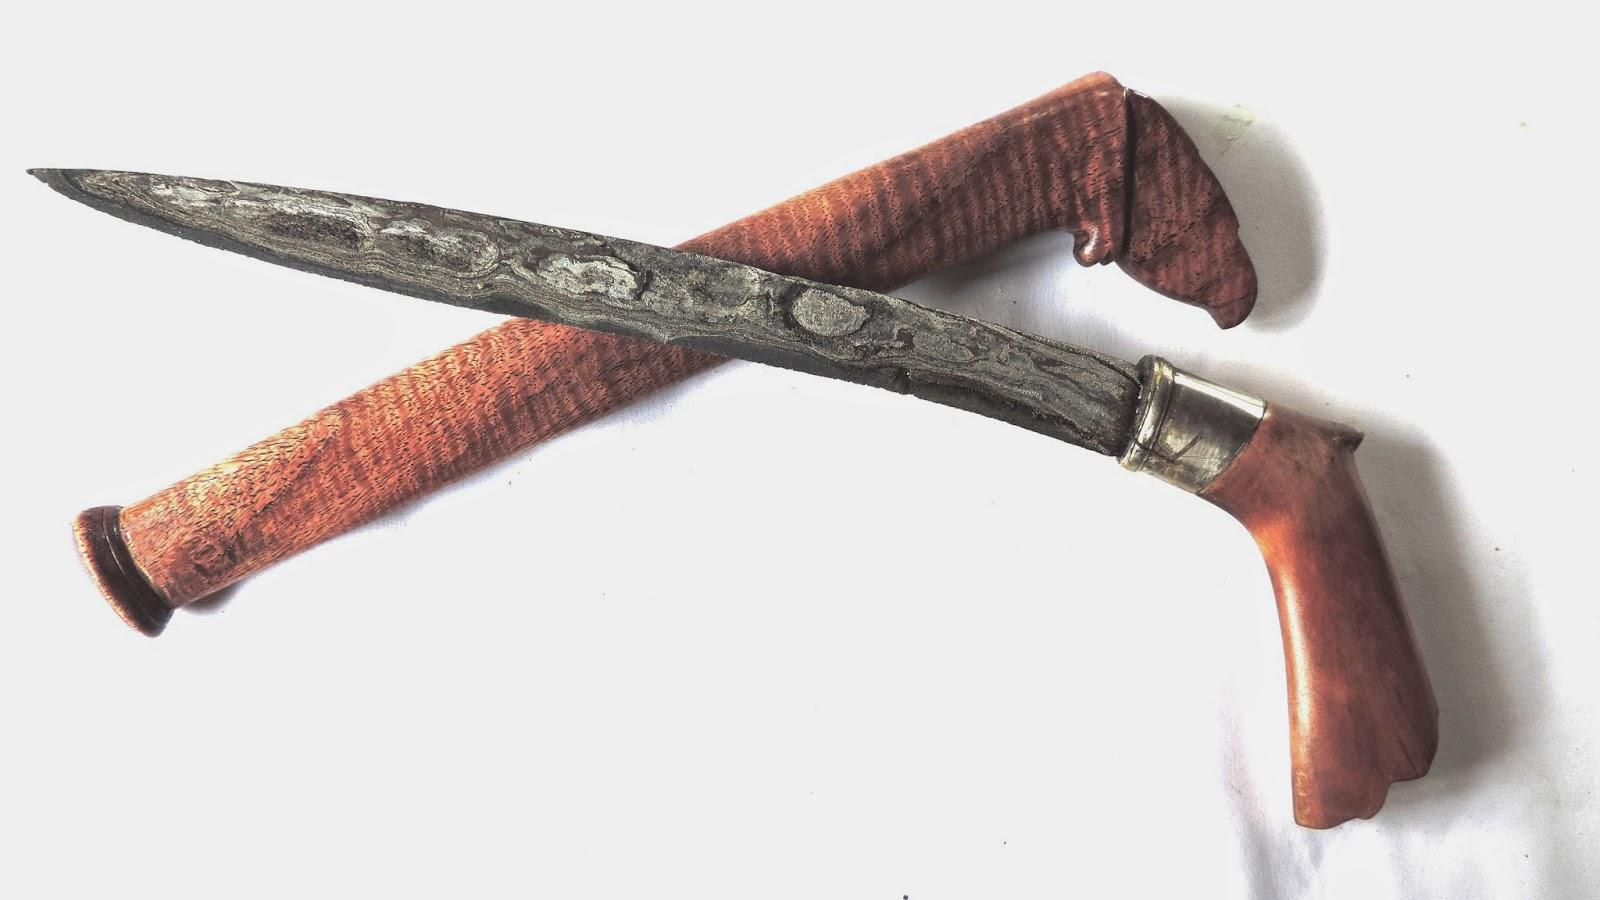facao: (31, 169, 1435, 827)
